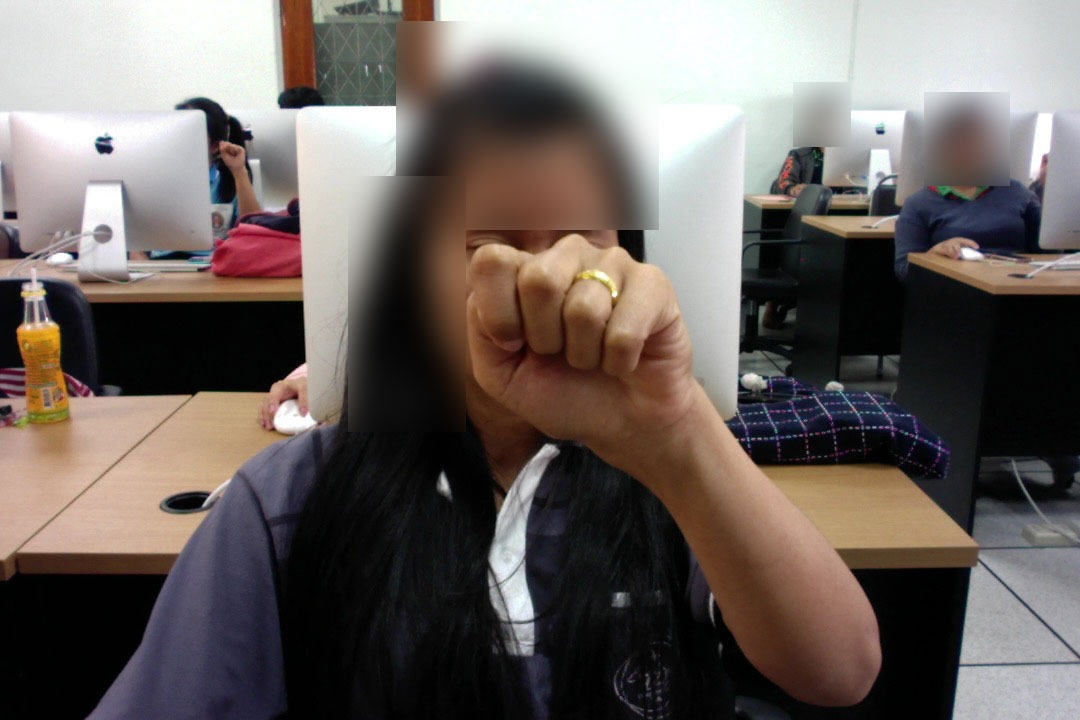sor: (458, 221, 715, 464)
